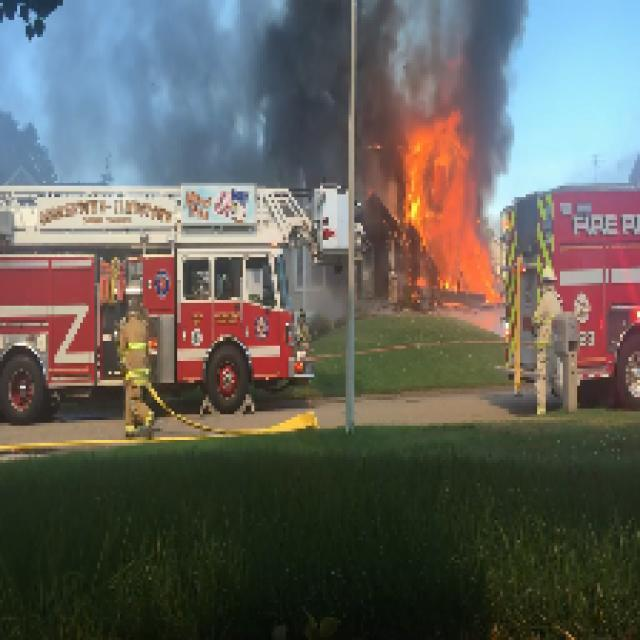Fire: (406, 111, 472, 292)
Smoke: (66, 3, 346, 180), (354, 3, 532, 100), (477, 102, 520, 198)
